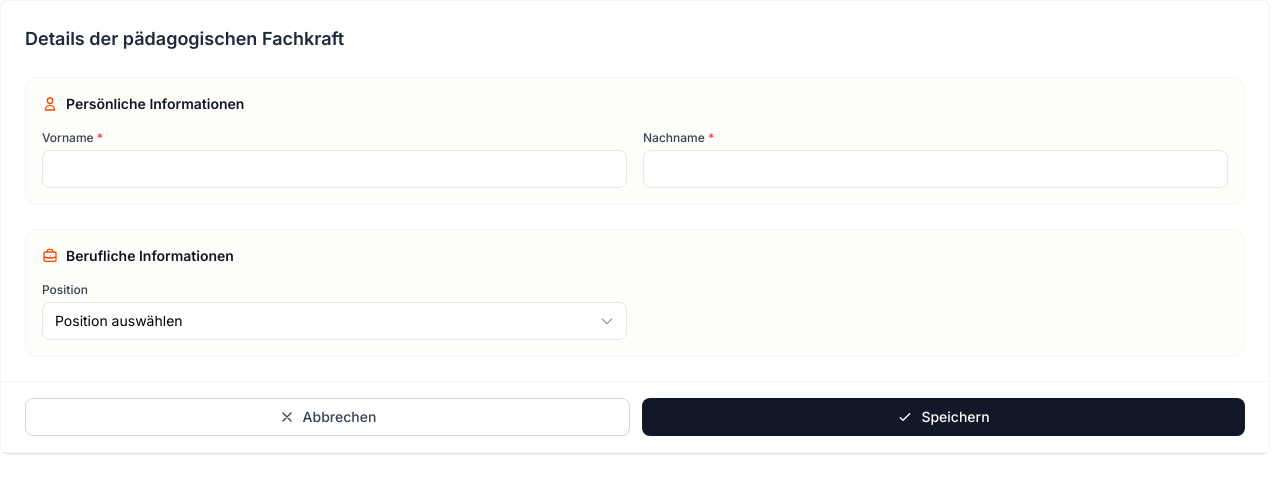
Test case: TeacherForm › shows validation error for empty firstName
The width and height of the screenshot is (1280, 491).
Click the button "Speichern" at (944, 417), box x1=642 y1=398 x2=1245 y2=436
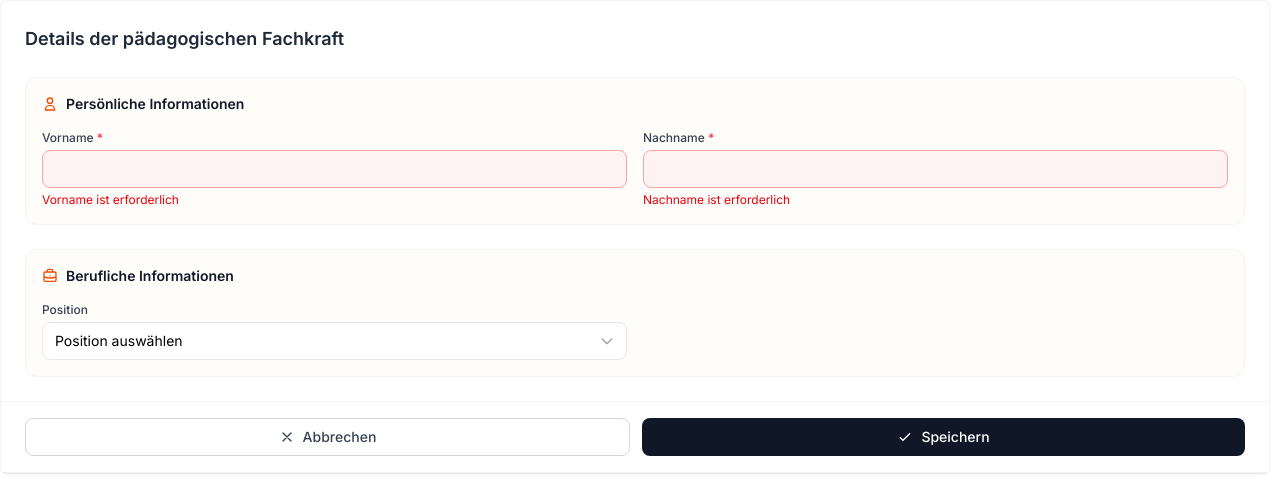
Result: the text "Vorname ist erforderlich" is shown at x1=42 y1=192 x2=179 y2=207
